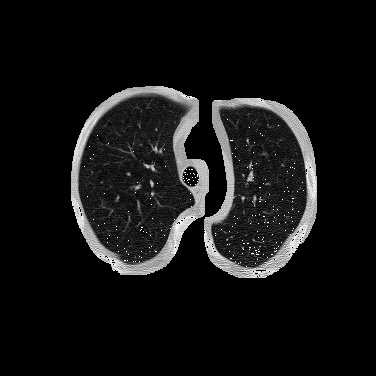PN: (263, 152, 267, 156)
